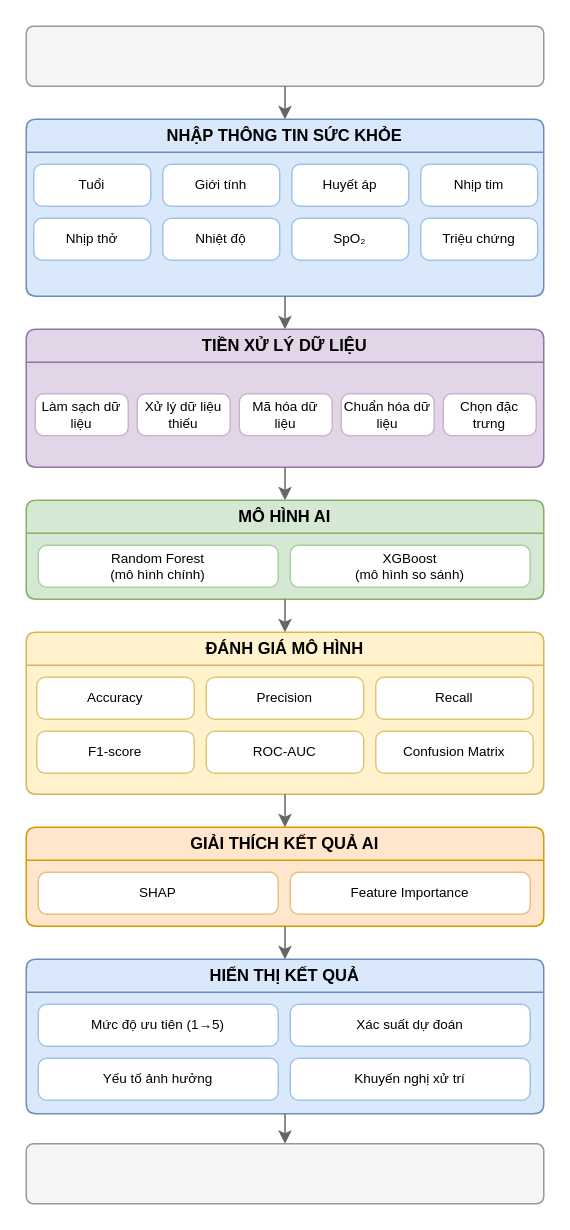
The diagram is 570 pixels wide and 1230 high, and some of its shapes have lost their labels. Each missing label, with the centre of its shape:
"BỆNH NHÂN" goes at (284,55).
"NHÂN VIÊN Y TẾ" goes at (284,1173).
